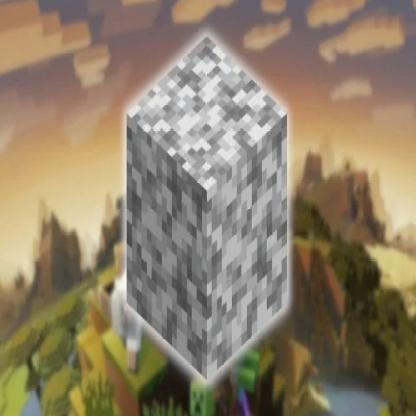Igneous_Diorite: (116, 25, 298, 384)
